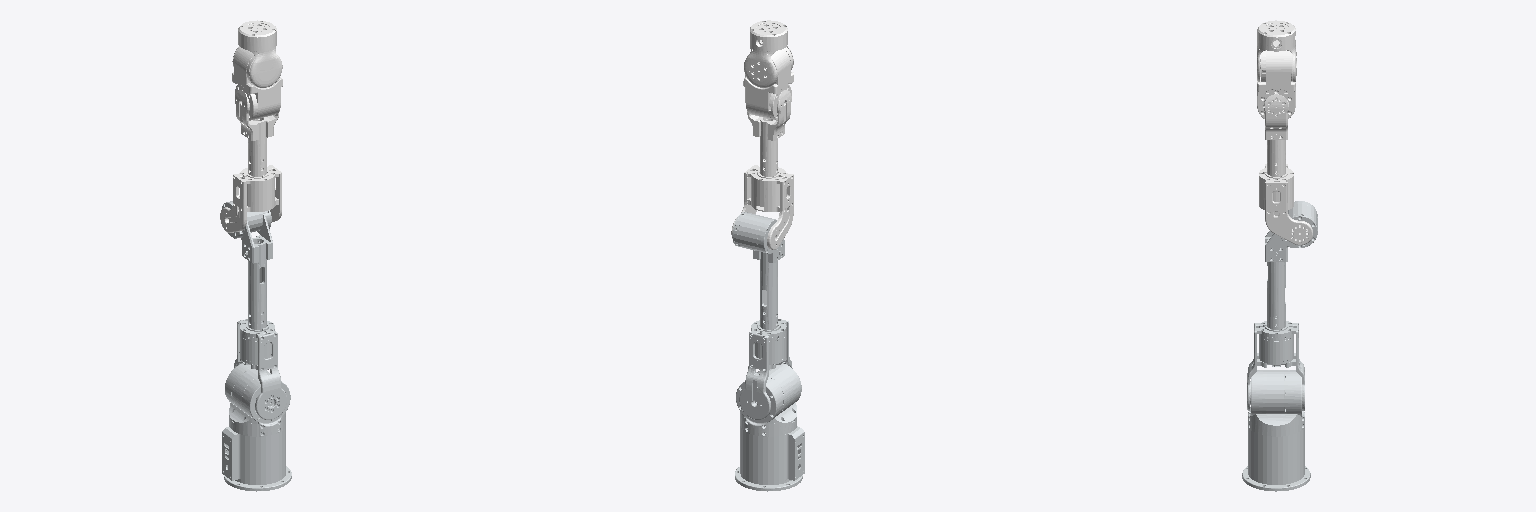
robot.urdf — litearm_description:
<?xml version="1.0" encoding="utf-8"?>
<!-- This URDF was automatically created by SolidWorks to URDF Exporter! Originally created by Stephen Brawner (brawner@gmail.com) 
     Commit Version: 1.6.0-4-g7f85cfe  Build Version: 1.6.7995.38578
     For more information, please see http://wiki.ros.org/sw_urdf_exporter -->
<robot
  name="litearm_description">
  <link
    name="base_link">
    <inertial>
      <origin
        xyz="-0.00261857605538476 -9.09511926112398E-08 0.0310678827593168"
        rpy="0 0 0" />
      <mass
        value="0.597519899384754" />
      <inertia
        ixx="0.000898597493859729"
        ixy="4.99764606545459E-08"
        ixz="4.19779843350297E-05"
        iyy="0.000978432093872688"
        iyz="-3.67385639125633E-09"
        izz="0.000912021614686334" />
    </inertial>
    <visual>
      <origin
        xyz="0 0 0"
        rpy="0 0 0" />
      <geometry>
        <mesh
          filename="package://litearm_description/meshes/base_link.STL" />
      </geometry>
      <material
        name="">
        <color
          rgba="0.898039215686275 0.917647058823529 0.929411764705882 1" />
      </material>
    </visual>
    <collision>
      <origin
        xyz="0 0 0"
        rpy="0 0 0" />
      <geometry>
        <mesh
          filename="package://litearm_description/meshes/base_link.STL" />
      </geometry>
    </collision>
  </link>
  <link
    name="Link1">
    <inertial>
      <origin
        xyz="-0.000326676941353193 0.00320614938098307 -0.00986879900502644"
        rpy="0 0 0" />
      <mass
        value="0.92795806181266" />
      <inertia
        ixx="0.00102112188055748"
        ixy="-2.82423338654705E-06"
        ixz="-5.08914143142754E-06"
        iyy="0.00098033825554655"
        iyz="-2.52706123345711E-05"
        izz="0.000887529071053966" />
    </inertial>
    <visual>
      <origin
        xyz="0 0 0"
        rpy="0 0 0" />
      <geometry>
        <mesh
          filename="package://litearm_description/meshes/Link1.STL" />
      </geometry>
      <material
        name="">
        <color
          rgba="0.898039215686275 0.917647058823529 0.929411764705882 1" />
      </material>
    </visual>
    <collision>
      <origin
        xyz="0 0 0"
        rpy="0 0 0" />
      <geometry>
        <mesh
          filename="package://litearm_description/meshes/Link1.STL" />
      </geometry>
    </collision>
  </link>
  <joint
    name="Joint1"
    type="revolute">
    <origin
      xyz="0 0 0.149"
      rpy="0 0 3.1416" />
    <parent
      link="base_link" />
    <child
      link="Link1" />
    <axis
      xyz="0 0 1" />
    <limit
      lower="-2.96706"
      upper="2.96706"
      effort="30"
      velocity="1" />
  </joint>
  <link
    name="Link2">
    <inertial>
      <origin
        xyz="1.71962597444991E-06 -0.0717061760732502 -0.000646670496161285"
        rpy="0 0 0" />
      <mass
        value="0.519726950439607" />
      <inertia
        ixx="0.000371257365617538"
        ixy="-2.03327735884208E-08"
        ixz="-5.09397444118865E-08"
        iyy="0.000183347095767596"
        iyz="-1.27746969502874E-06"
        izz="0.000392461252589963" />
    </inertial>
    <visual>
      <origin
        xyz="0 0 0"
        rpy="0 0 0" />
      <geometry>
        <mesh
          filename="package://litearm_description/meshes/Link2.STL" />
      </geometry>
      <material
        name="">
        <color
          rgba="0.898039215686275 0.917647058823529 0.929411764705882 1" />
      </material>
    </visual>
    <collision>
      <origin
        xyz="0 0 0"
        rpy="0 0 0" />
      <geometry>
        <mesh
          filename="package://litearm_description/meshes/Link2.STL" />
      </geometry>
    </collision>
  </link>
  <joint
    name="Joint2"
    type="revolute">
    <origin
      xyz="0 0 0"
      rpy="-1.5708 0 3.1416" />
    <parent
      link="Link1" />
    <child
      link="Link2" />
    <axis
      xyz="0 0 -1" />
    <limit
      lower="-1.815142"
      upper="1.815142"
      effort="30"
      velocity="1" />
  </joint>
  <link
    name="Link3">
    <inertial>
      <origin
        xyz="0.00109932497492505 0.0223611463592195 0.140156516921035"
        rpy="0 0 0" />
      <mass
        value="0.604105041591543" />
      <inertia
        ixx="0.00249726702397557"
        ixy="-9.24020816620698E-06"
        ixz="-2.61702606761733E-05"
        iyy="0.0023130827518778"
        iyz="-0.000537632305774002"
        izz="0.000420304761695735" />
    </inertial>
    <visual>
      <origin
        xyz="0 0 0"
        rpy="0 0 0" />
      <geometry>
        <mesh
          filename="package://litearm_description/meshes/Link3.STL" />
      </geometry>
      <material
        name="">
        <color
          rgba="0.898039215686275 0.917647058823529 0.929411764705882 1" />
      </material>
    </visual>
    <collision>
      <origin
        xyz="0 0 0"
        rpy="0 0 0" />
      <geometry>
        <mesh
          filename="package://litearm_description/meshes/Link3.STL" />
      </geometry>
    </collision>
  </link>
  <joint
    name="Joint3"
    type="revolute">
    <origin
      xyz="0 -0.1195 0"
      rpy="1.5708 0 0" />
    <parent
      link="Link2" />
    <child
      link="Link3" />
    <axis
      xyz="0 0 1" />
    <limit
      lower="-2.827433"
      upper="2.827433"
      effort="9"
      velocity="1" />
  </joint>
  <link
    name="Link4">
    <inertial>
      <origin
        xyz="-0.0525066110781 -0.033929097859498 0.000189271015002192"
        rpy="0 0 0" />
      <mass
        value="0.346865847674024" />
      <inertia
        ixx="0.000274751626845304"
        ixy="-7.30524328622389E-05"
        ixz="-3.72030684068581E-06"
        iyy="0.000406458158394222"
        iyz="-2.61798050064743E-06"
        izz="0.000345028158777406" />
    </inertial>
    <visual>
      <origin
        xyz="0 0 0"
        rpy="0 0 0" />
      <geometry>
        <mesh
          filename="package://litearm_description/meshes/Link4.STL" />
      </geometry>
      <material
        name="">
        <color
          rgba="1 1 1 1" />
      </material>
    </visual>
    <collision>
      <origin
        xyz="0 0 0"
        rpy="0 0 0" />
      <geometry>
        <mesh
          filename="package://litearm_description/meshes/Link4.STL" />
      </geometry>
    </collision>
  </link>
  <joint
    name="Joint4"
    type="revolute">
    <origin
      xyz="-7E-05 0.038 0.18"
      rpy="0 1.5708 0" />
    <parent
      link="Link3" />
    <child
      link="Link4" />
    <axis
      xyz="0 0 1" />
    <limit
      lower="-3.089233"
      upper="0.610865"
      effort="9"
      velocity="1" />
  </joint>
  <link
    name="Link5">
    <inertial>
      <origin
        xyz="-0.000167161748511637 3.00535072762459E-06 0.0650221774958848"
        rpy="0 0 0" />
      <mass
        value="0.0887382026324083" />
      <inertia
        ixx="0.00015958948584067"
        ixy="-1.78419743866968E-08"
        ixz="8.782046877328E-07"
        iyy="0.000174854825774323"
        iyz="9.8321103832314E-08"
        izz="3.22865579975458E-05" />
    </inertial>
    <visual>
      <origin
        xyz="0 0 0"
        rpy="0 0 0" />
      <geometry>
        <mesh
          filename="package://litearm_description/meshes/Link5.STL" />
      </geometry>
      <material
        name="">
        <color
          rgba="1 1 1 1" />
      </material>
    </visual>
    <collision>
      <origin
        xyz="0 0 0"
        rpy="0 0 0" />
      <geometry>
        <mesh
          filename="package://litearm_description/meshes/Link5.STL" />
      </geometry>
    </collision>
  </link>
  <joint
    name="Joint5"
    type="revolute">
    <origin
      xyz="-0.09145 -0.038 0"
      rpy="3.1416 1.5708 0" />
    <parent
      link="Link4" />
    <child
      link="Link5" />
    <axis
      xyz="0 0 1" />
    <limit
      lower="-2.827433"
      upper="2.827433"
      effort="3.5"
      velocity="1" />
  </joint>
  <link
    name="Link6">
    <inertial>
      <origin
        xyz="-0.0310374840007513 0.00110590862857562 0.000966084392035478"
        rpy="0 0 0" />
      <mass
        value="0.312523807012255" />
      <inertia
        ixx="0.000152270229956033"
        ixy="8.91058476321986E-06"
        ixz="-9.23167651357592E-06"
        iyy="0.000410177650151357"
        iyz="1.21275808869886E-07"
        izz="0.000410422617679545" />
    </inertial>
    <visual>
      <origin
        xyz="0 0 0"
        rpy="0 0 0" />
      <geometry>
        <mesh
          filename="package://litearm_description/meshes/Link6.STL" />
      </geometry>
      <material
        name="">
        <color
          rgba="1 1 1 1" />
      </material>
    </visual>
    <collision>
      <origin
        xyz="0 0 0"
        rpy="0 0 0" />
      <geometry>
        <mesh
          filename="package://litearm_description/meshes/Link6.STL" />
      </geometry>
    </collision>
  </link>
  <joint
    name="Joint6"
    type="revolute">
    <origin
      xyz="-0.00025 0 0.131"
      rpy="3.1416 1.5708 0" />
    <parent
      link="Link5" />
    <child
      link="Link6" />
    <axis
      xyz="0 0 1" />
    <limit
      lower="-1.570796"
      upper="1.570796"
      effort="3.5"
      velocity="1" />
  </joint>
  <link
    name="Link7">
    <inertial>
      <origin
        xyz="-7.43057898289577E-05 -0.0284235650050568 -0.00113435973488788"
        rpy="0 0 0" />
      <mass
        value="0.0665142817194158" />
      <inertia
        ixx="8.5642525016716E-05"
        ixy="-1.12765968295321E-07"
        ixz="2.95835405036398E-09"
        iyy="5.31281710239535E-05"
        iyz="7.14944303033067E-08"
        izz="6.65701690207505E-05" />
    </inertial>
    <visual>
      <origin
        xyz="0 0 0"
        rpy="0 0 0" />
      <geometry>
        <mesh
          filename="package://litearm_description/meshes/Link7.STL" />
      </geometry>
      <material
        name="">
        <color
          rgba="1 1 1 1" />
      </material>
    </visual>
    <collision>
      <origin
        xyz="0 0 0"
        rpy="0 0 0" />
      <geometry>
        <mesh
          filename="package://litearm_description/meshes/Link7.STL" />
      </geometry>
    </collision>
  </link>
  <joint
    name="Joint7"
    type="revolute">
    <origin
      xyz="-0.062 0.00031 -0.00025"
      rpy="1.5708 1.5708 0" />
    <parent
      link="Link6" />
    <child
      link="Link7" />
    <axis
      xyz="0 0 1" />
    <limit
      lower="-1.570796"
      upper="1.570796"
      effort="3.5"
      velocity="1" />
  </joint>
  <link
    name="ee_frame_link">
    <inertial>
      <origin
        xyz="7.42959416152524E-05 0.00113435973488877 -0.0525955260589035"
        rpy="0 0 0" />
      <mass
        value="0.0665142817194158" />
      <inertia
        ixx="8.5642525016716E-05"
        ixy="2.9583540503639E-09"
        ixz="-1.12765968295322E-07"
        iyy="6.65701690207505E-05"
        iyz="7.14944303033002E-08"
        izz="5.31281710239535E-05" />
    </inertial>
    <visual>
      <origin
        xyz="0 0 0"
        rpy="0 0 0" />
      <geometry>
        <mesh
          filename="package://litearm_description/meshes/ee_frame_link.STL" />
      </geometry>
      <material
        name="">
        <color
          rgba="1 1 1 1" />
      </material>
    </visual>
    <collision>
      <origin
        xyz="0 0 0"
        rpy="0 0 0" />
      <geometry>
        <mesh
          filename="package://litearm_description/meshes/ee_frame_link.STL" />
      </geometry>
    </collision>
  </link>
  <joint
    name="ee_joint"
    type="fixed">
    <origin
      xyz="0 -0.0810190910639602 0"
      rpy="-1.5707963267949 0 3.14159265358979" />
    <parent
      link="Link7" />
    <child
      link="ee_frame_link" />
    <axis
      xyz="0 0 0" />
  </joint>
</robot>

--- What the picture shows (computed from the rendered views, not written in the file) ---
The picture shows the robot from 3 angles, left to right: view 1: azimuth 30°, elevation 25°; view 2: azimuth 150°, elevation 25°; view 3: azimuth 270°, elevation 25°; orthographic projection.
Model litearm_description with 9 links and 8 joints (7 revolute, 1 fixed), rooted at base_link, posed all joints at 0.
Links seen in each view (by area): view 1: base_link, Link2, Link3, Link1, Link4, Link5, Link6, Link7, ee_frame_link; view 2: base_link, Link3, Link2, Link1, Link4, Link5, Link6, Link7, ee_frame_link; view 3: Link1, base_link, Link3, Link4, Link2, Link6, Link5, Link7.
Boxes of the visible links, x1=… form: base_link: x1=222, y1=427, x2=291, y2=491; Link2: x1=234, y1=319, x2=286, y2=419; Link3: x1=222, y1=201, x2=272, y2=331; Link1: x1=225, y1=363, x2=290, y2=436; Link4: x1=220, y1=165, x2=281, y2=232; Link5: x1=235, y1=90, x2=279, y2=178; Link6: x1=232, y1=47, x2=282, y2=120; Link7: x1=233, y1=21, x2=282, y2=87; ee_frame_link: x1=232, y1=20, x2=281, y2=87; base_link: x1=735, y1=426, x2=804, y2=491; Link3: x1=732, y1=212, x2=784, y2=331; Link2: x1=739, y1=319, x2=792, y2=419; Link1: x1=736, y1=364, x2=801, y2=436; Link4: x1=731, y1=165, x2=793, y2=249; Link5: x1=747, y1=90, x2=791, y2=178; Link6: x1=743, y1=47, x2=793, y2=120; Link7: x1=744, y1=20, x2=793, y2=87; ee_frame_link: x1=744, y1=21, x2=793, y2=87; Link1: x1=1248, y1=370, x2=1304, y2=436; base_link: x1=1242, y1=427, x2=1310, y2=491; Link3: x1=1263, y1=201, x2=1317, y2=331; Link4: x1=1259, y1=164, x2=1312, y2=244; Link2: x1=1247, y1=321, x2=1304, y2=410; Link6: x1=1257, y1=50, x2=1295, y2=118; Link5: x1=1263, y1=94, x2=1288, y2=178; Link7: x1=1257, y1=20, x2=1296, y2=81.
Size in the robot's own frame: 0.1121 by 0.1215 by 0.7972 metres.
Meshes: 9 distinct files referenced, 9 mesh visuals loaded (9 binary STL).
